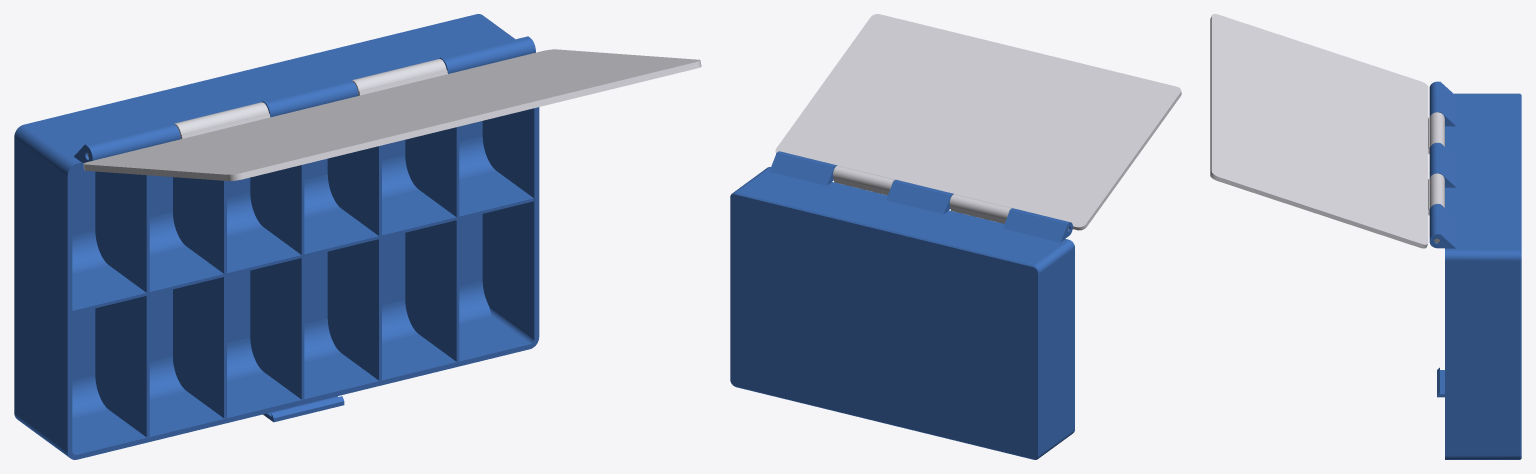
Rendered from variant-COLS_6-ROWS_2.glb.
The picture shows the model from 3 angles, left to right: view 1: azimuth 30°, elevation 25°; view 2: azimuth 150°, elevation 25°; view 3: azimuth 270°, elevation 25°; orthographic projection. The views are drawn at different scales.
Visible parts, largest first — view 1: 0:Kasten, 1:Deckel; view 2: 0:Kasten, 1:Deckel; view 3: 1:Deckel, 0:Kasten.
Part boxes in pixels (box(x1,y1,x2,y2)): 0:Kasten: box(14, 14, 539, 459); 1:Deckel: box(83, 49, 701, 181); 0:Kasten: box(730, 151, 1074, 459); 1:Deckel: box(775, 14, 1181, 230); 1:Deckel: box(1210, 14, 1444, 248); 0:Kasten: box(1429, 81, 1521, 459).
Bounding box in the file's own units: 200 × 167 × 162.
